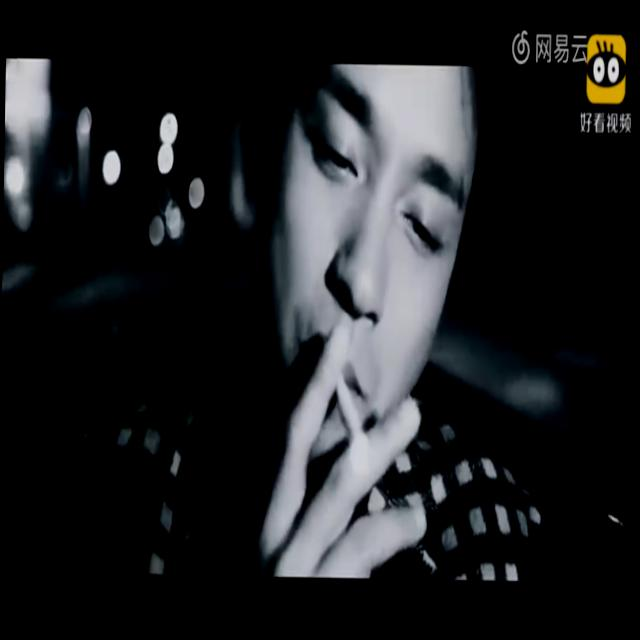smoke: (333, 370, 372, 463)
